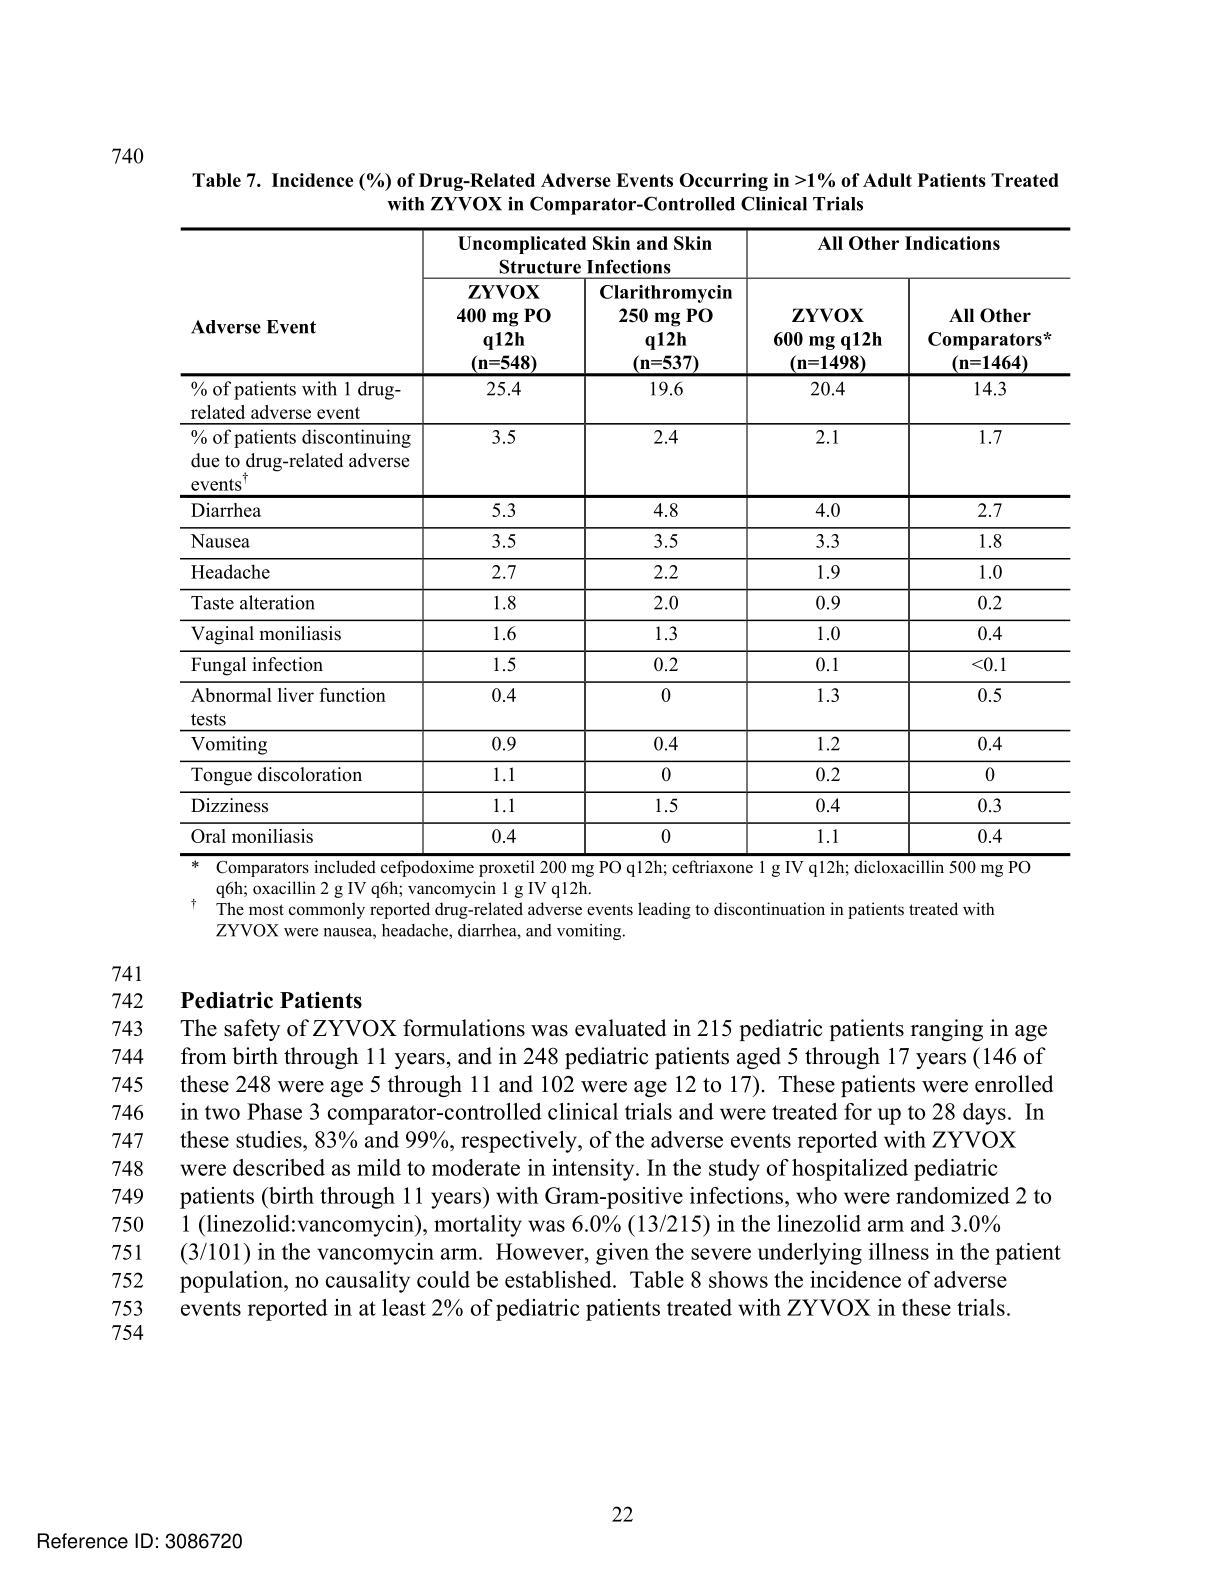partial_lined_merged_cells: (179, 225, 1074, 858)
